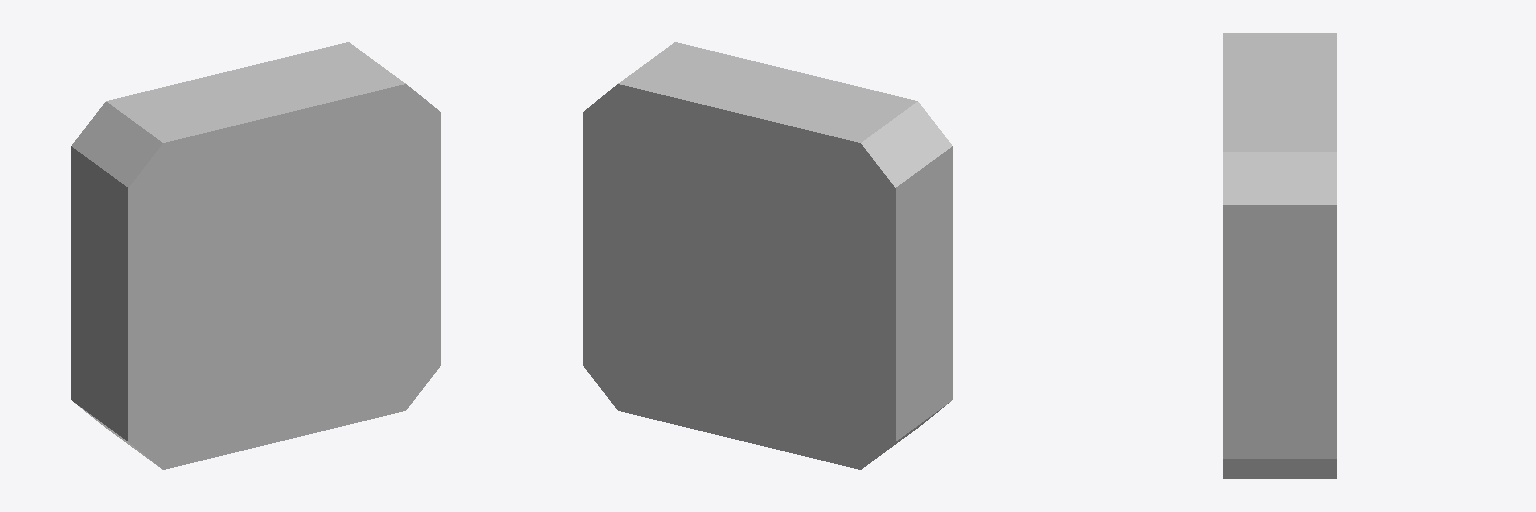
File: upgradeSimple.obj
3 renders of one model, left to right at view 1: azimuth 30°, elevation 25°; view 2: azimuth 150°, elevation 25°; view 3: azimuth 270°, elevation 25°, orthographic.
Visible parts, largest first — view 1: Object.1; view 2: Object.1; view 3: Object.1.
Boxes of the visible parts, box(x1,y1,x2,y2) form: Object.1: box(71, 42, 440, 469); Object.1: box(583, 42, 952, 469); Object.1: box(1223, 33, 1336, 478).
Bounding box in the file's own units: 50.8 × 50.8 × 16.15.